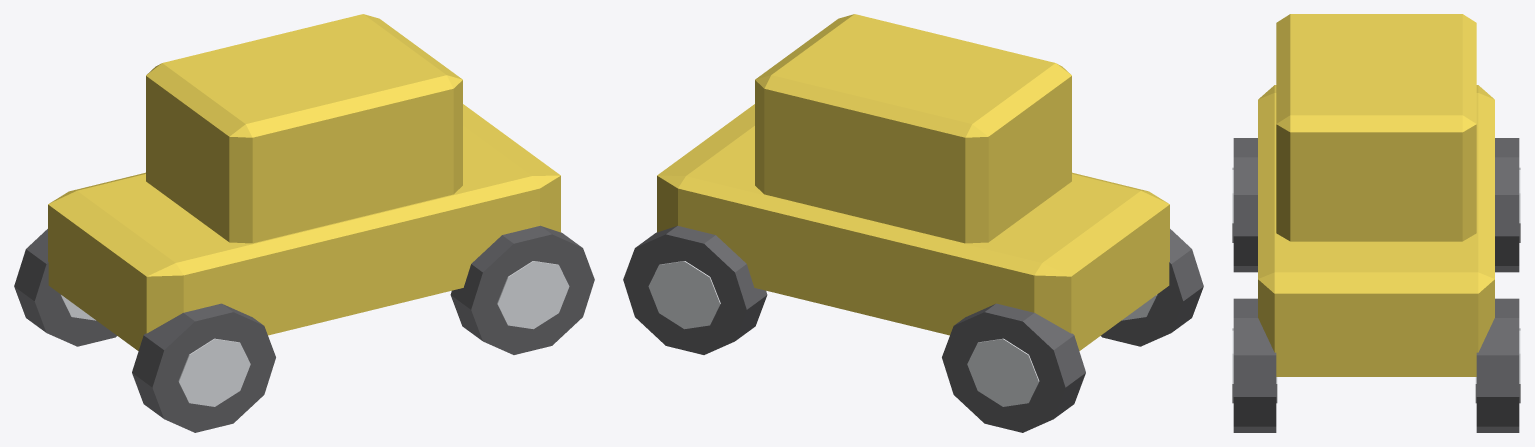
The model's file is b07_diesel_air_compressor_trailer.glb.
3 views of the same model, side by side, from view 1: azimuth 30°, elevation 25°; view 2: azimuth 150°, elevation 25°; view 3: azimuth 270°, elevation 25° (orthographic). The views are drawn at different scales.
Visible parts, largest first — view 1: b07_diesel_air_compressor_trailer; view 2: b07_diesel_air_compressor_trailer; view 3: b07_diesel_air_compressor_trailer.
Part boxes in pixels (x1,y1,x2,y2): b07_diesel_air_compressor_trailer: [14, 14, 594, 432]; b07_diesel_air_compressor_trailer: [623, 14, 1203, 432]; b07_diesel_air_compressor_trailer: [1232, 14, 1520, 432].
Size of the model in its own units: 3.38 by 1.97 by 1.85.
